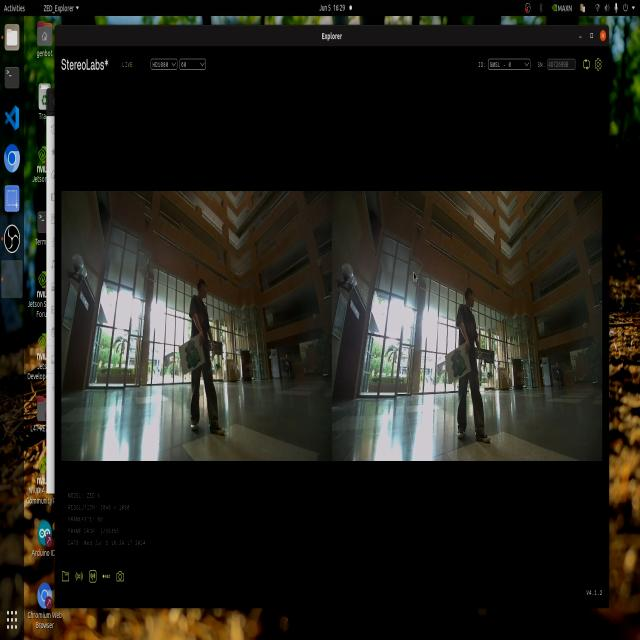green: (439, 348, 469, 376), (176, 346, 206, 366)
